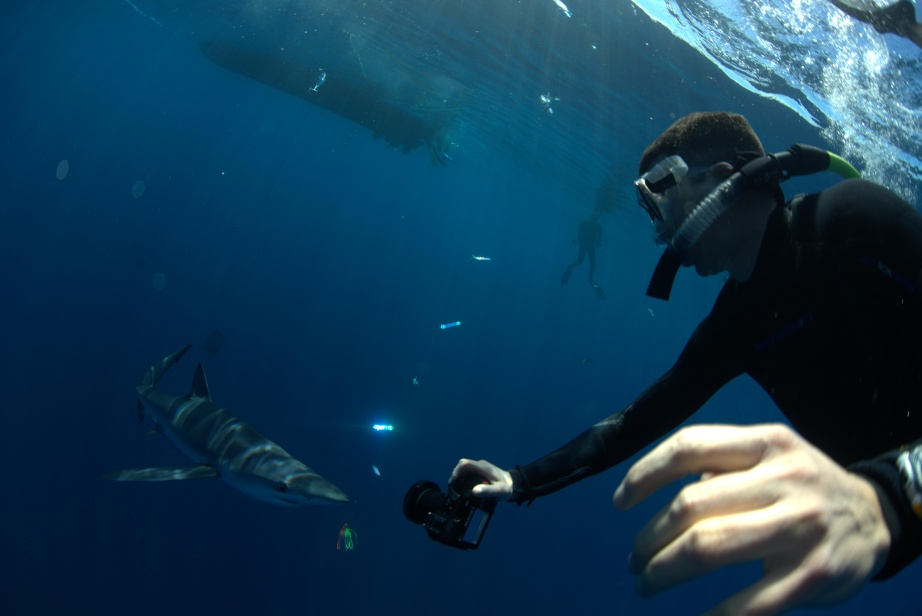Azul: (112, 330, 368, 532)
